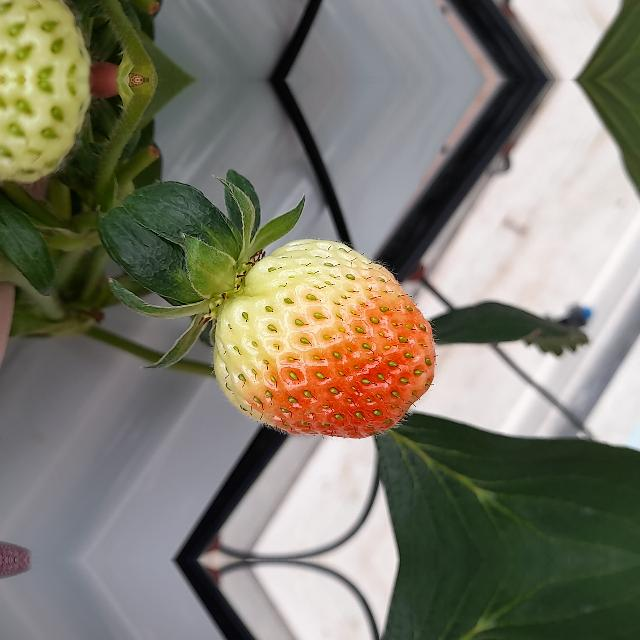Health_75: (213, 238, 435, 438)
